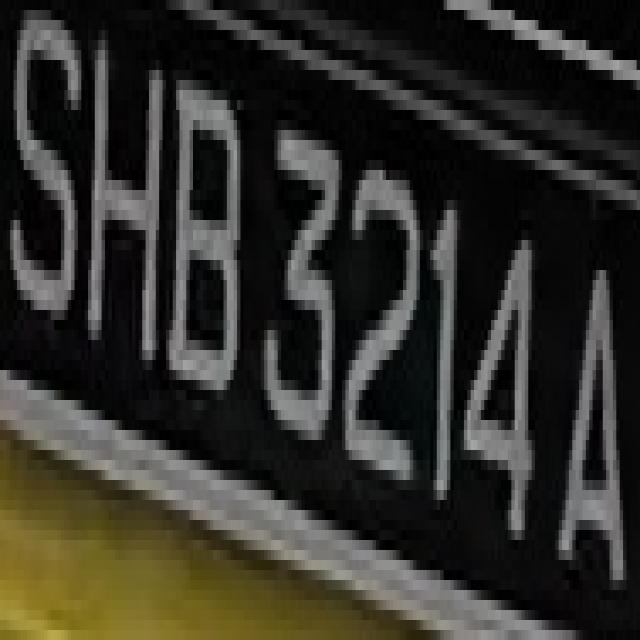1: (430, 140, 464, 530)
2: (345, 130, 420, 540)
3: (268, 100, 335, 480)
4: (457, 150, 552, 560)
A: (559, 240, 633, 600)
B: (166, 60, 251, 420)
H: (78, 0, 173, 370)
S: (4, 20, 82, 360)
